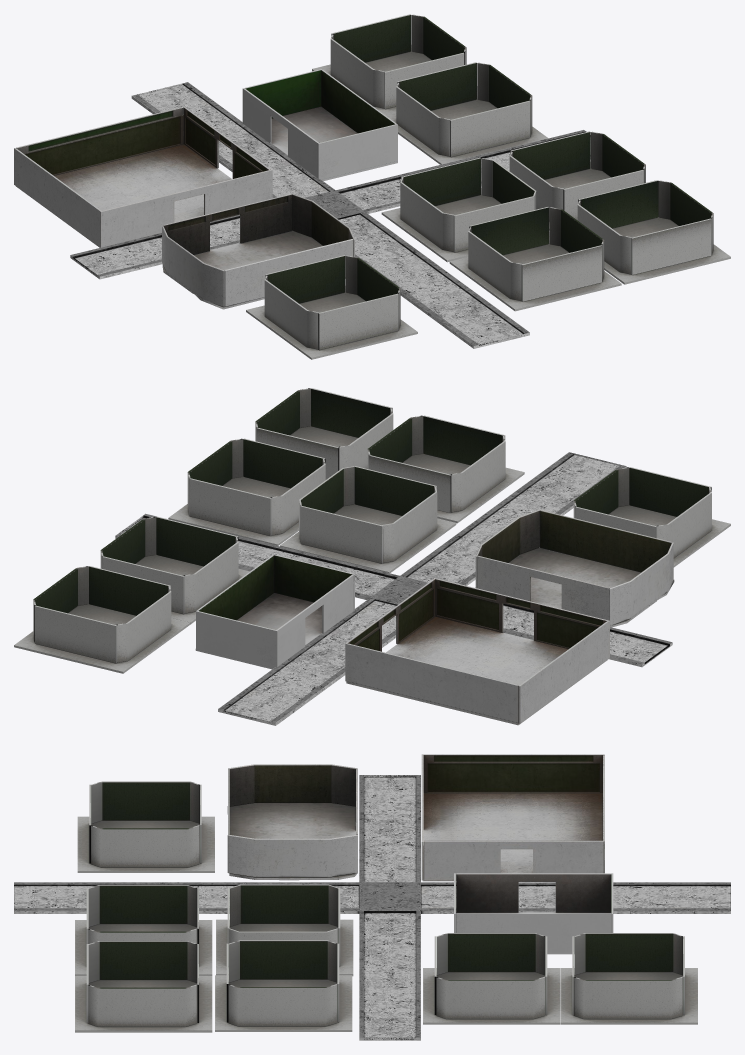
The picture shows the model from 3 angles, top to bottom: view 1: azimuth 30°, elevation 25°; view 2: azimuth 150°, elevation 25°; view 3: azimuth 270°, elevation 25°; orthographic projection. The views are drawn at different scales.
Parts seen in each view (by area): view 1: polySurface46, pCube8, polySurface1, polySurface8, polySurface30, polySurface111, polySurface166, polySurface25, polySurface16, polySurface222, polySurface53; view 2: polySurface46, pCube8, polySurface1, polySurface8, polySurface222, polySurface16, polySurface53, polySurface30, polySurface166, polySurface111, polySurface25; view 3: pCube8, polySurface46, polySurface1, polySurface166, polySurface53, polySurface25, polySurface222, polySurface111, polySurface8, polySurface16, polySurface30.
Boxes of the visible parts, left/top/right/bottom form: polySurface46: left=14, top=106, right=272, bottom=247; pCube8: left=70, top=82, right=590, bottom=348; polySurface1: left=162, top=194, right=354, bottom=309; polySurface8: left=242, top=69, right=397, bottom=180; polySurface30: left=449, top=207, right=621, bottom=311; polySurface111: left=246, top=255, right=417, bottom=359; polySurface166: left=385, top=62, right=548, bottom=164; polySurface25: left=577, top=180, right=730, bottom=284; polySurface16: left=381, top=157, right=549, bottom=262; polySurface222: left=312, top=14, right=477, bottom=114; polySurface53: left=509, top=131, right=645, bottom=230; polySurface46: left=345, top=578, right=609, bottom=725; pCube8: left=115, top=452, right=672, bottom=725; polySurface1: left=475, top=509, right=674, bottom=627; polySurface8: left=195, top=554, right=354, bottom=669; polySurface222: left=14, top=566, right=190, bottom=673; polySurface16: left=280, top=466, right=456, bottom=573; polySurface53: left=168, top=438, right=325, bottom=545; polySurface30: left=367, top=415, right=524, bottom=523; polySurface166: left=100, top=516, right=249, bottom=624; polySurface111: left=573, top=467, right=730, bottom=567; polySurface25: left=255, top=388, right=393, bottom=479; pCube8: left=14, top=775, right=730, bottom=1040; polySurface46: left=421, top=754, right=604, bottom=881; polySurface1: left=227, top=764, right=357, bottom=880; polySurface166: left=423, top=933, right=560, bottom=1024; polySurface53: left=215, top=940, right=352, bottom=1031; polySurface25: left=75, top=941, right=212, bottom=1032; polySurface222: left=560, top=933, right=697, bottom=1024; polySurface111: left=77, top=781, right=214, bottom=872; polySurface8: left=454, top=873, right=613, bottom=954; polySurface16: left=216, top=884, right=353, bottom=976; polySurface30: left=75, top=885, right=212, bottom=975.
Size of the model in its own units: 79.85 by 6 by 92.11.
Materials: 5 (5 with a texture image).
